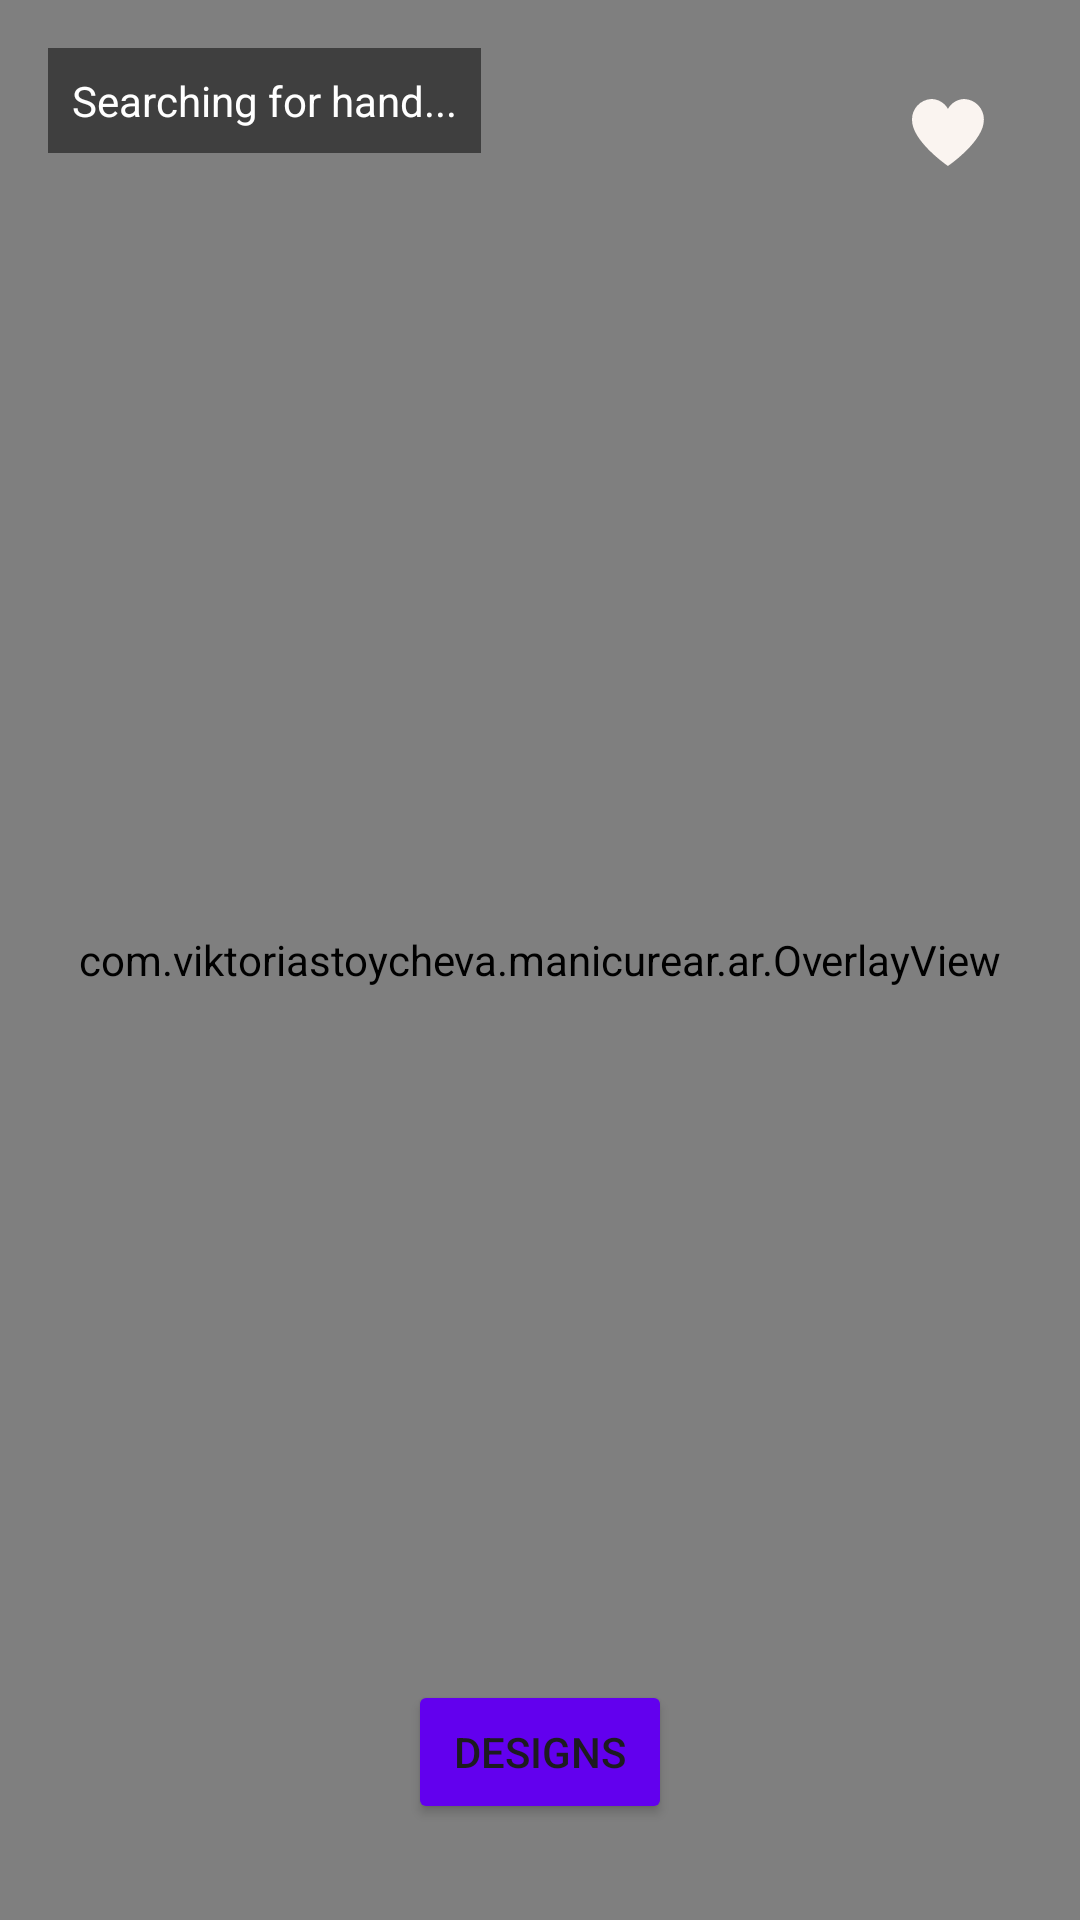

Screen size 1080px x 1920px. Icon name, then its box in pixels as (x1, y1, x2, y2):
heart: (912, 99, 984, 166)
